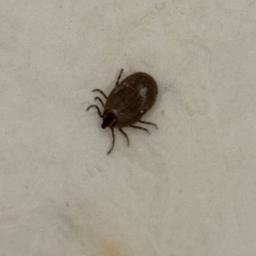Dermacentor variabilis: (86, 66, 161, 155)
